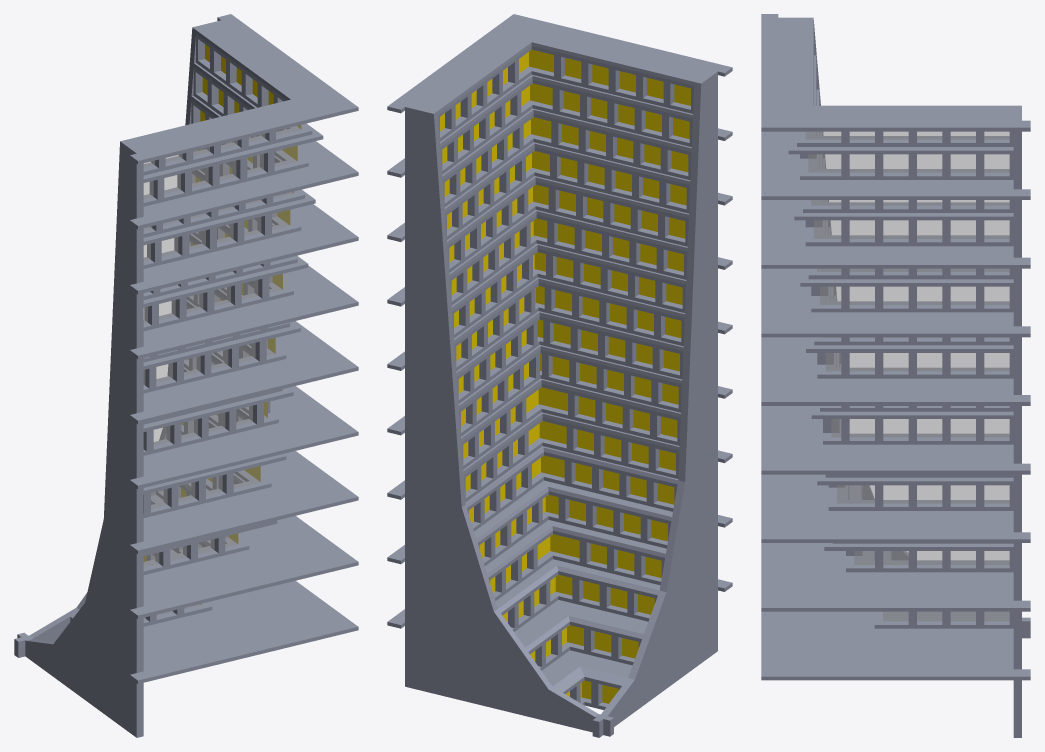
File: building_ct-inner_v01.gltf
The picture shows the model from 3 angles, left to right: view 1: azimuth 30°, elevation 25°; view 2: azimuth 150°, elevation 25°; view 3: azimuth 270°, elevation 25°; orthographic projection. The views are drawn at different scales.
Parts seen in each view (by area): view 1: structure, capsule, window; view 2: structure, capsule, window; view 3: structure, capsule, window.
Part boxes in pixels (x1=…): structure: x1=14, y1=14, x2=358, y2=737; capsule: x1=70, y1=34, x2=312, y2=626; window: x1=143, y1=44, x2=301, y2=618; structure: x1=387, y1=14, x2=732, y2=737; capsule: x1=438, y1=46, x2=694, y2=709; window: x1=440, y1=49, x2=690, y2=703; structure: x1=761, y1=14, x2=1030, y2=737; capsule: x1=797, y1=131, x2=1013, y2=628; window: x1=805, y1=131, x2=1009, y2=621.
Size of what is drawn, in the model's own units: 32 by 81 by 32.
